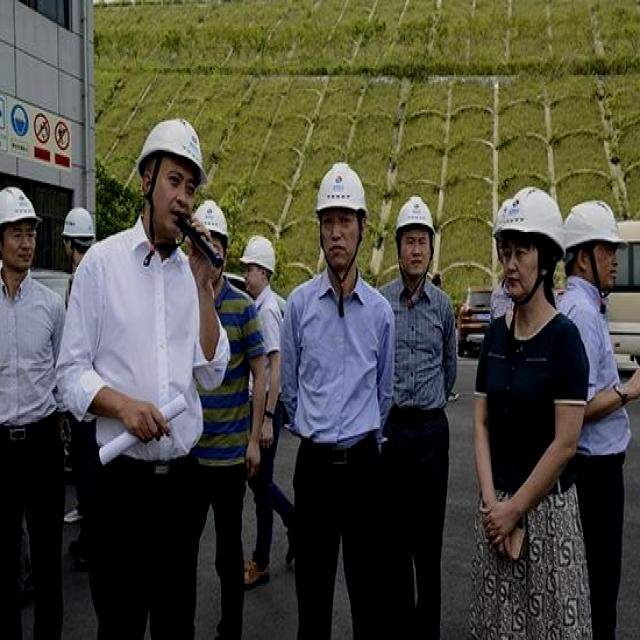Con_Casco: (314, 160, 370, 268)
Sin_Chaleco: (281, 275, 394, 451)
